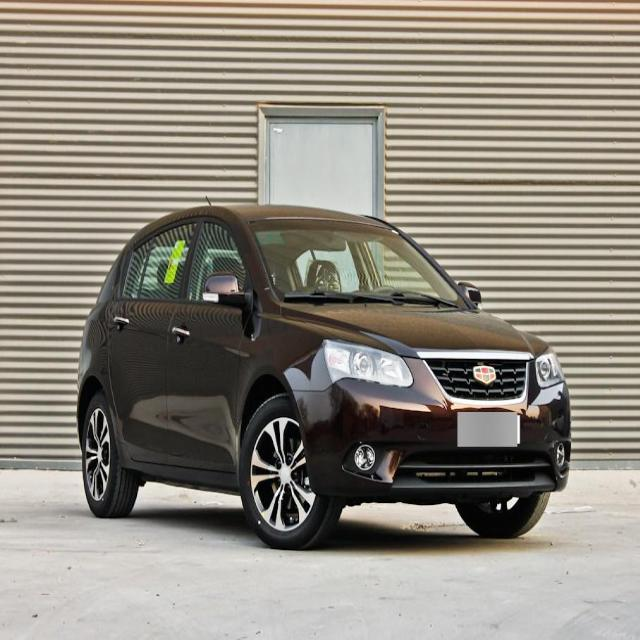door: (114, 218, 200, 469)
front_bumper: (291, 377, 573, 495)
front_glass: (247, 218, 468, 312)
front_left_side_light: (534, 344, 567, 388)
front_left_side_mirror: (458, 280, 482, 307)
front_right_side_door: (164, 212, 252, 480)
front_right_side_light: (321, 338, 414, 386)
front_right_side_mirror: (200, 271, 245, 316)
wheel: (240, 394, 330, 549), (81, 394, 135, 520), (454, 493, 547, 537)
